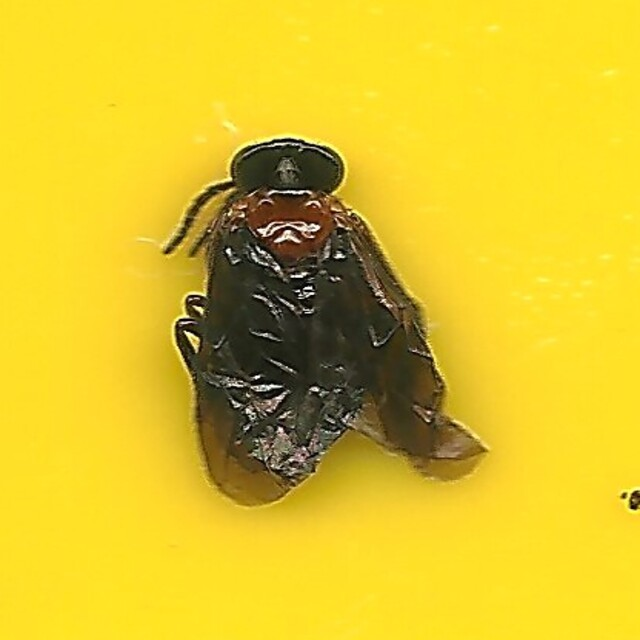Hymenoptera: (154, 132, 486, 508)
